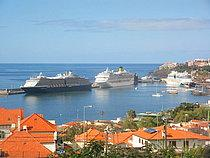Ship: (20, 69, 95, 96), (94, 67, 144, 93)
